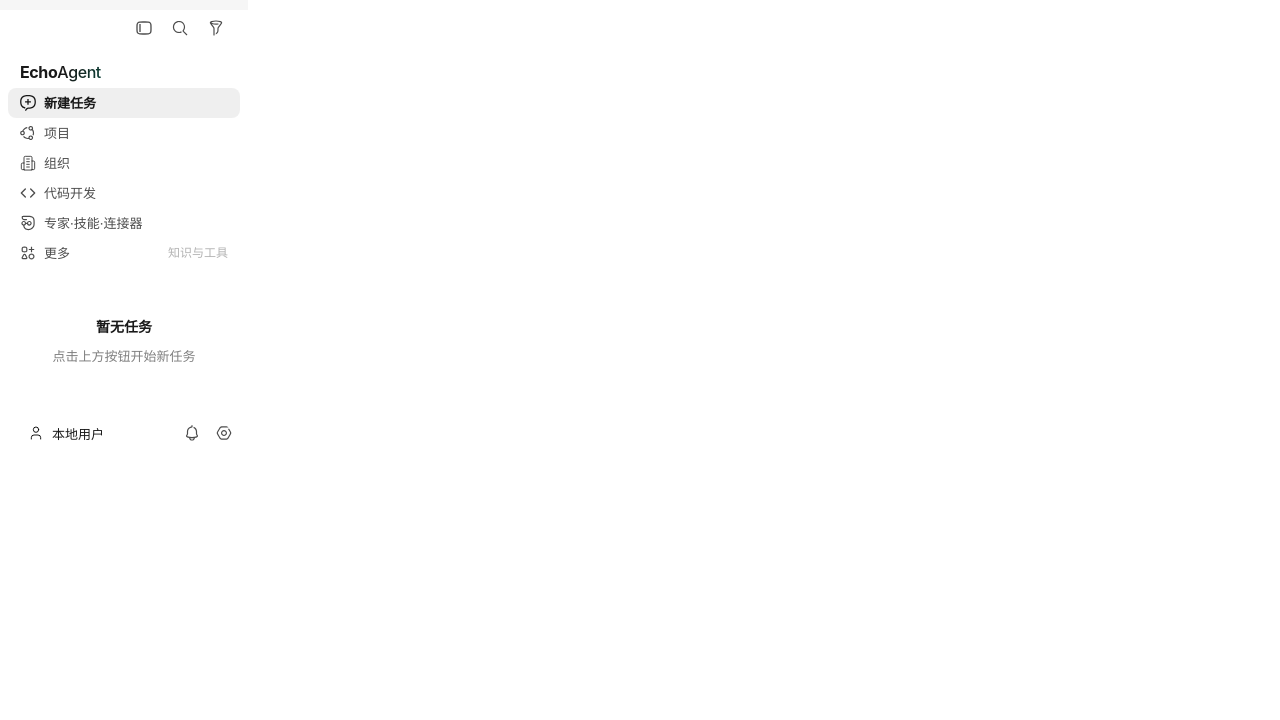
Test case: Sidebar › 指针拖动在 Escape 时取消且不误关弹窗
This screenshot has width=1280, height=720.
Click the button "更多 知识与工具": (124, 253) [8,238,240,268]
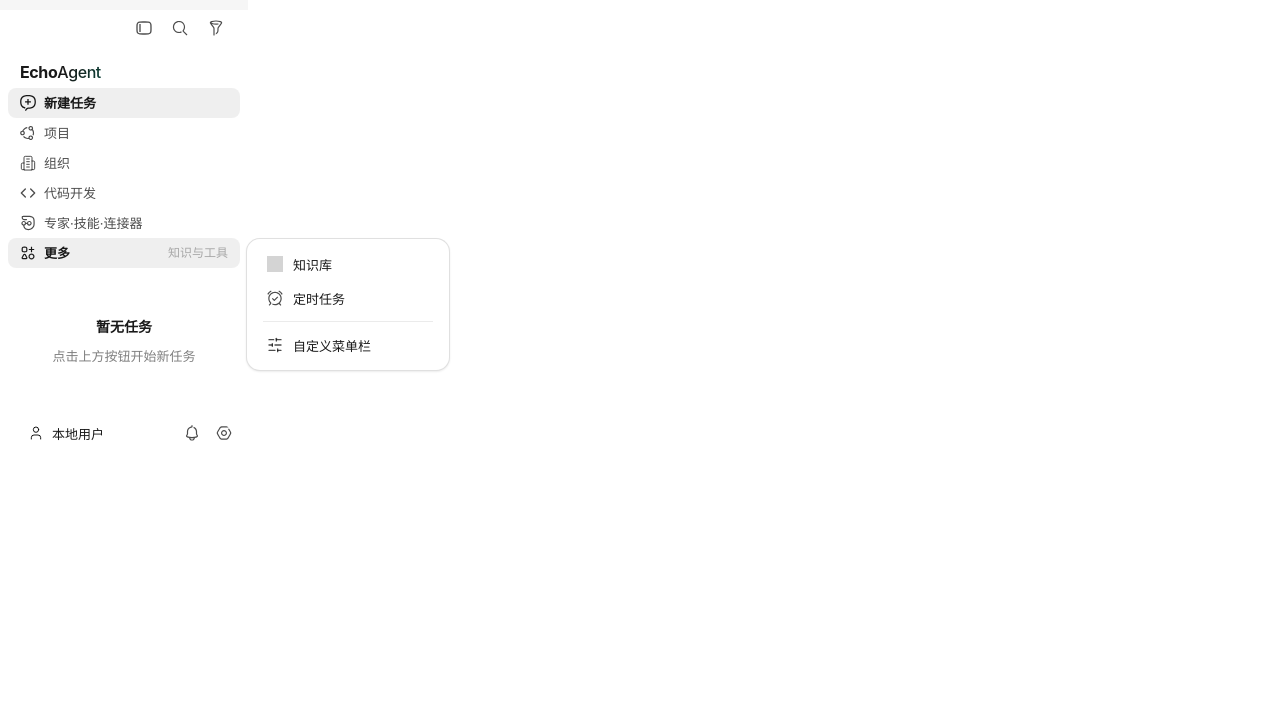
Click the menu item "自定义菜单栏": (348, 345) [255,328,441,362]
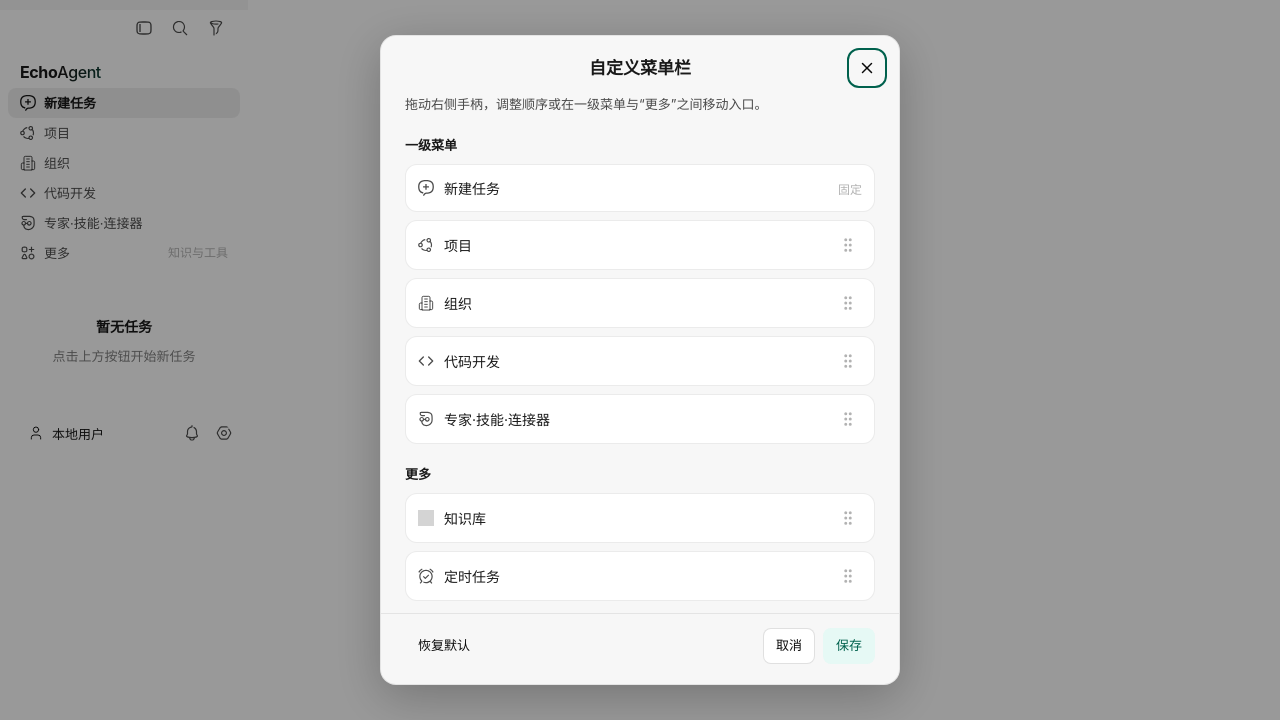
Press the mouse on the button named "拖动项目": (848, 245) [834,229,862,261]
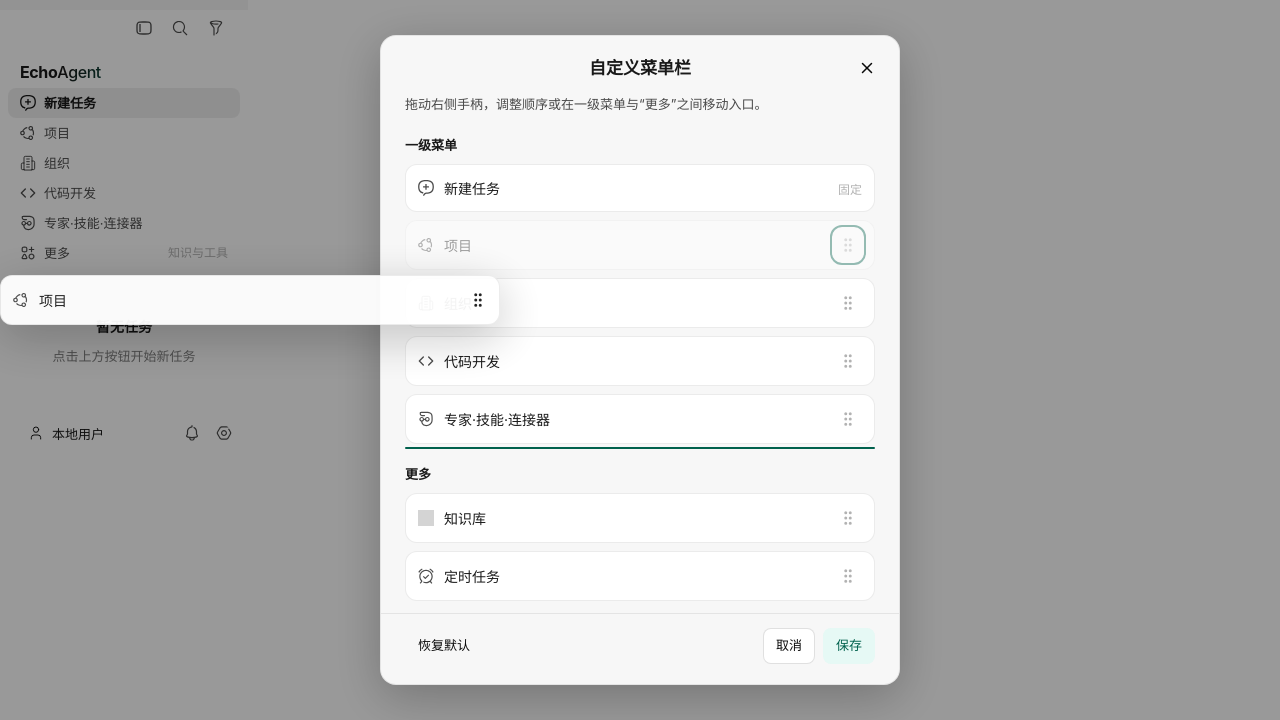
Result: the element with class "sidebar-menu-customizer__preview" is shown at [0,275,500,325]
Press Escape
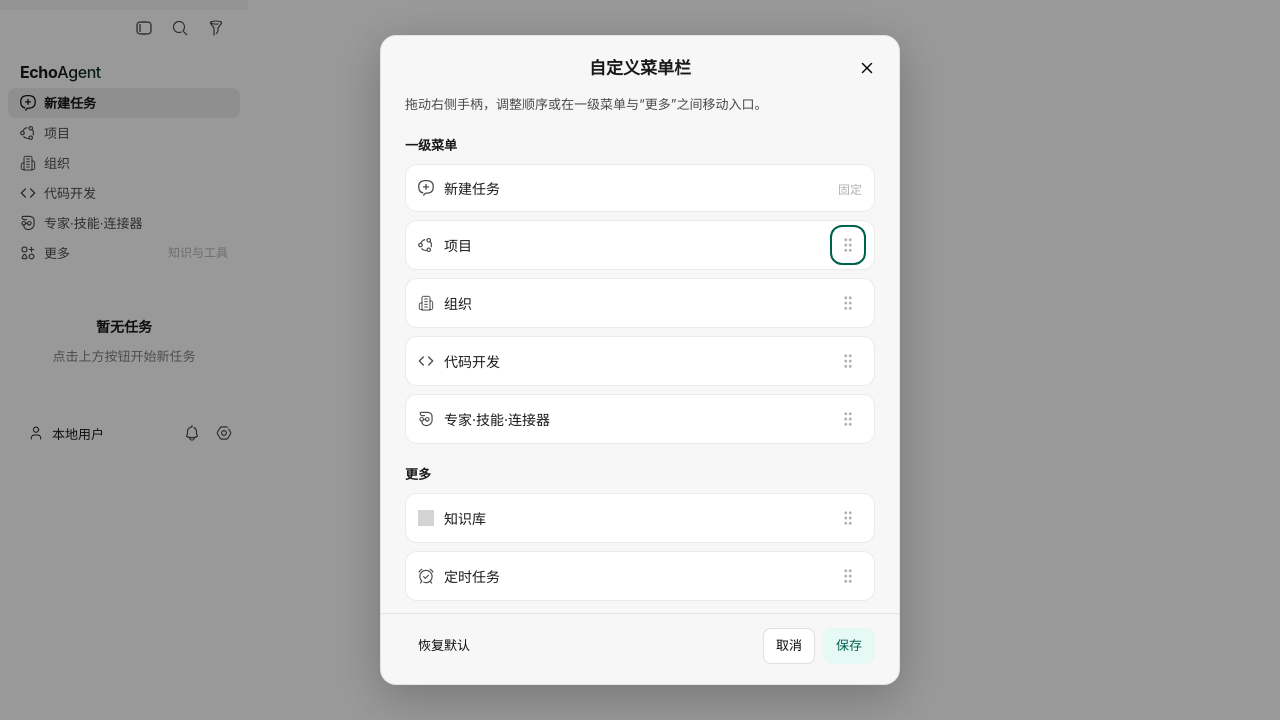
Result: the dialog "自定义菜单栏" is shown at [380,35,900,685]
Result: the element with class "sidebar-menu-customizer__preview" is gone
